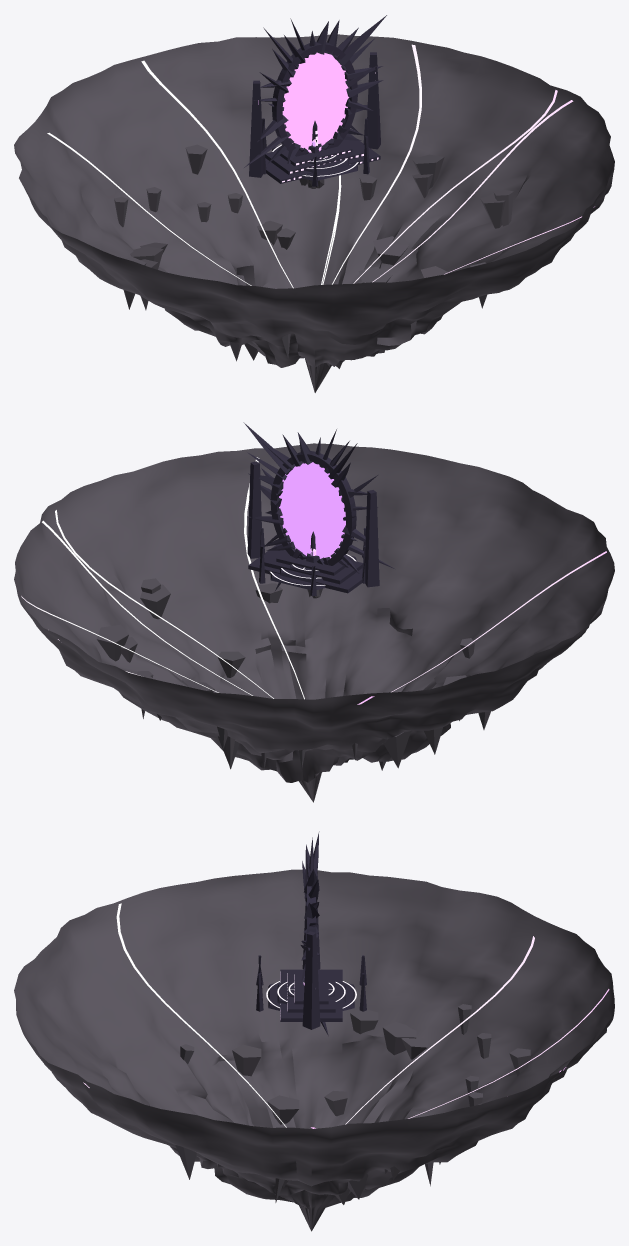
Rendered from forged.glb.
3 renders of one model, top to bottom at view 1: azimuth 30°, elevation 25°; view 2: azimuth 150°, elevation 25°; view 3: azimuth 270°, elevation 25°, orthographic.
Visible parts, largest first — view 1: island_rock, gate, gate_portal, island_veins, altar; view 2: island_rock, gate, gate_portal, island_veins, altar; view 3: island_rock, gate, altar, island_veins.
Boxes of the visible parts, x1,y1,x2,y2 form: island_rock: (14, 34, 614, 392); gate: (244, 15, 386, 183); gate_portal: (282, 52, 349, 150); island_veins: (32, 44, 594, 288); altar: (262, 118, 369, 186); island_rock: (14, 443, 614, 802); gate: (243, 422, 394, 593); gate_portal: (279, 462, 345, 558); island_veins: (21, 457, 606, 704); altar: (259, 528, 365, 596); island_rock: (14, 869, 614, 1231); gate: (280, 831, 342, 1035); altar: (256, 955, 366, 1011); island_veins: (83, 903, 609, 1128).
Size of the model in its own units: 68.96 by 47.48 by 67.43.
